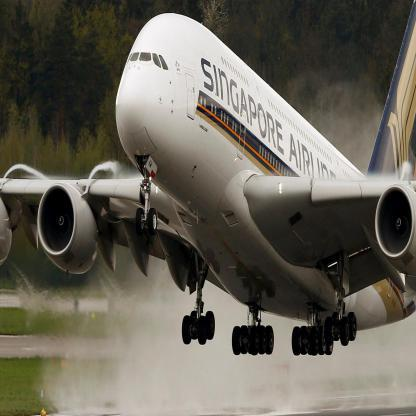CIV_Plane: (2, 11, 416, 357)
